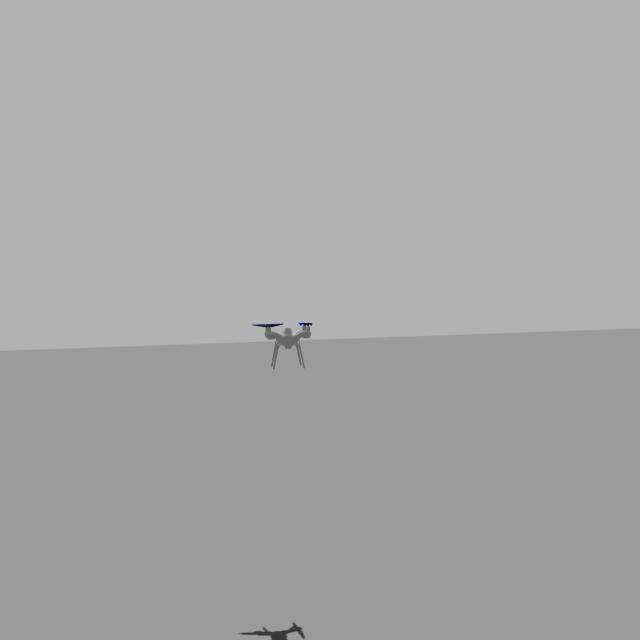Drone: (254, 306, 318, 372)
